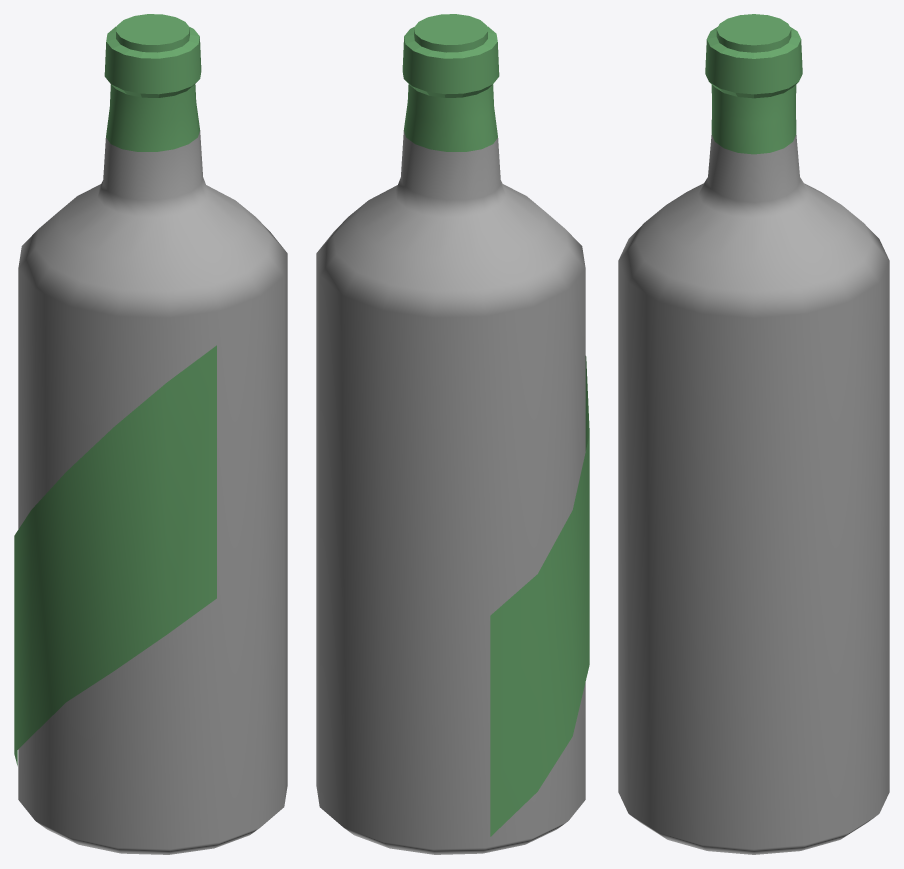
File: SM_Bottle_7.fbx
The picture shows the model from 3 angles, left to right: view 1: azimuth 30°, elevation 25°; view 2: azimuth 150°, elevation 25°; view 3: azimuth 270°, elevation 25°; orthographic projection.
Parts seen in each view (by area): view 1: polySurface5; view 2: polySurface5; view 3: polySurface5.
Boxes of the visible parts, box(x1,y1,x2,y2) form: polySurface5: box(14, 14, 287, 854); polySurface5: box(316, 14, 589, 854); polySurface5: box(618, 14, 889, 854).
Size of the model in its own units: 8.71 by 26.91 by 8.56.
